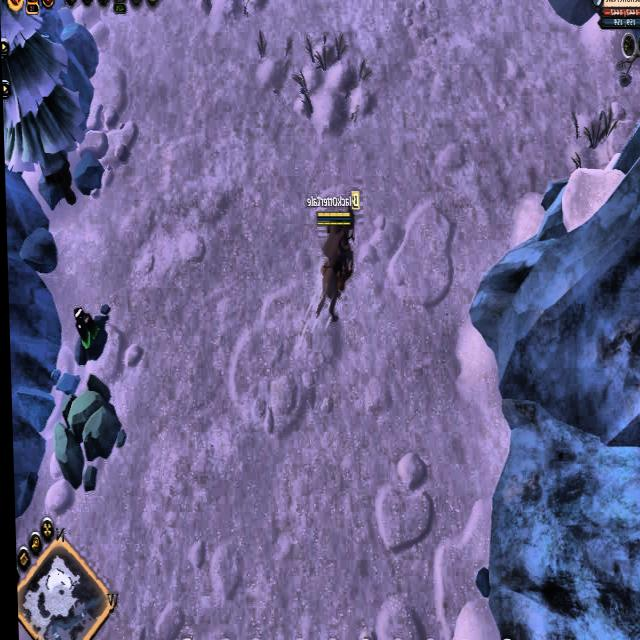sandstone: (47, 378, 126, 491)
tinore: (67, 303, 106, 360)
